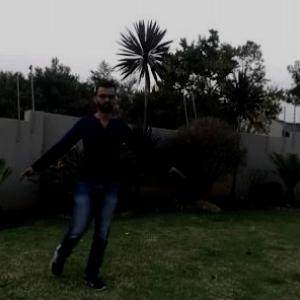land: (37, 91, 162, 245)
